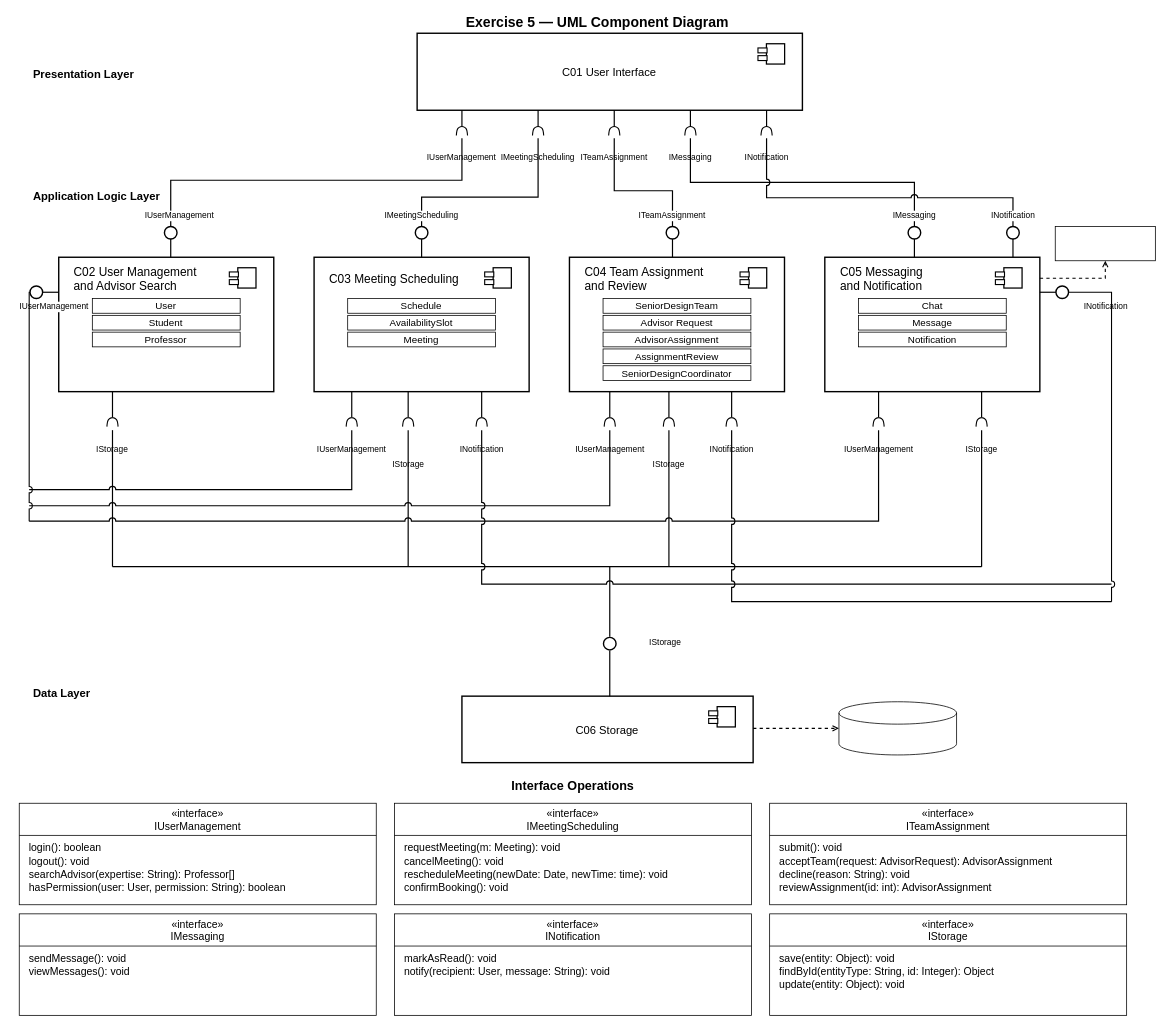
Some shapes in this 1168 by 1028 pixel diagram are drawn without their labels. The centre of each missing label's shape, as x and y in pixels:
"Relational Database" goes at (x=897, y=728).
"«external service» Email Service" goes at (x=1105, y=243).
